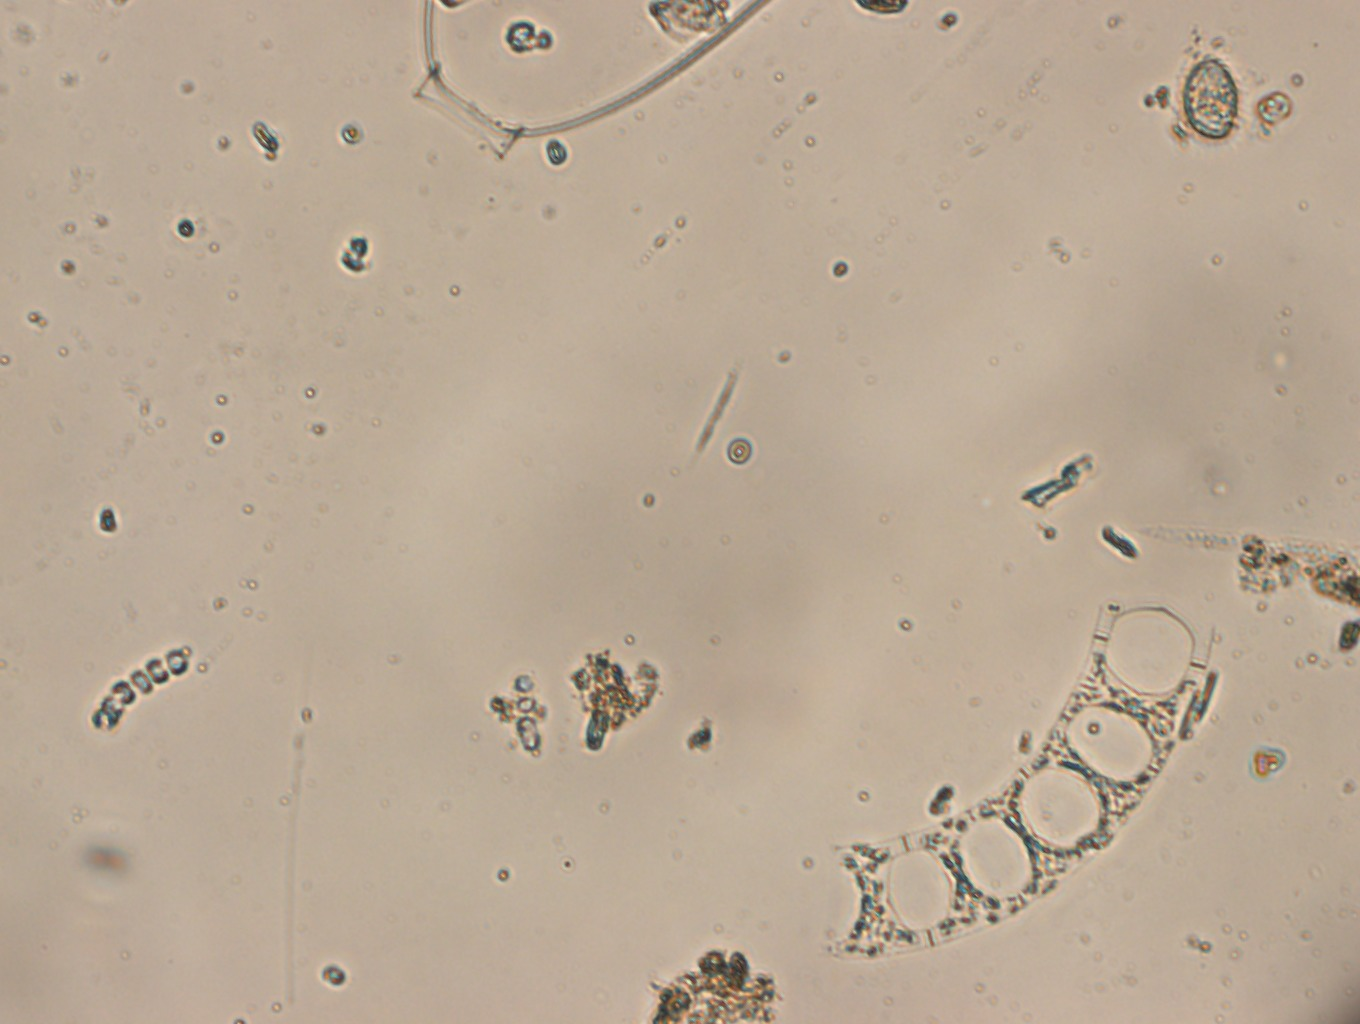chaetoceros: (411, 1, 769, 159)
eucampia: (830, 598, 1216, 959)
skeletonema: (90, 649, 189, 731)
